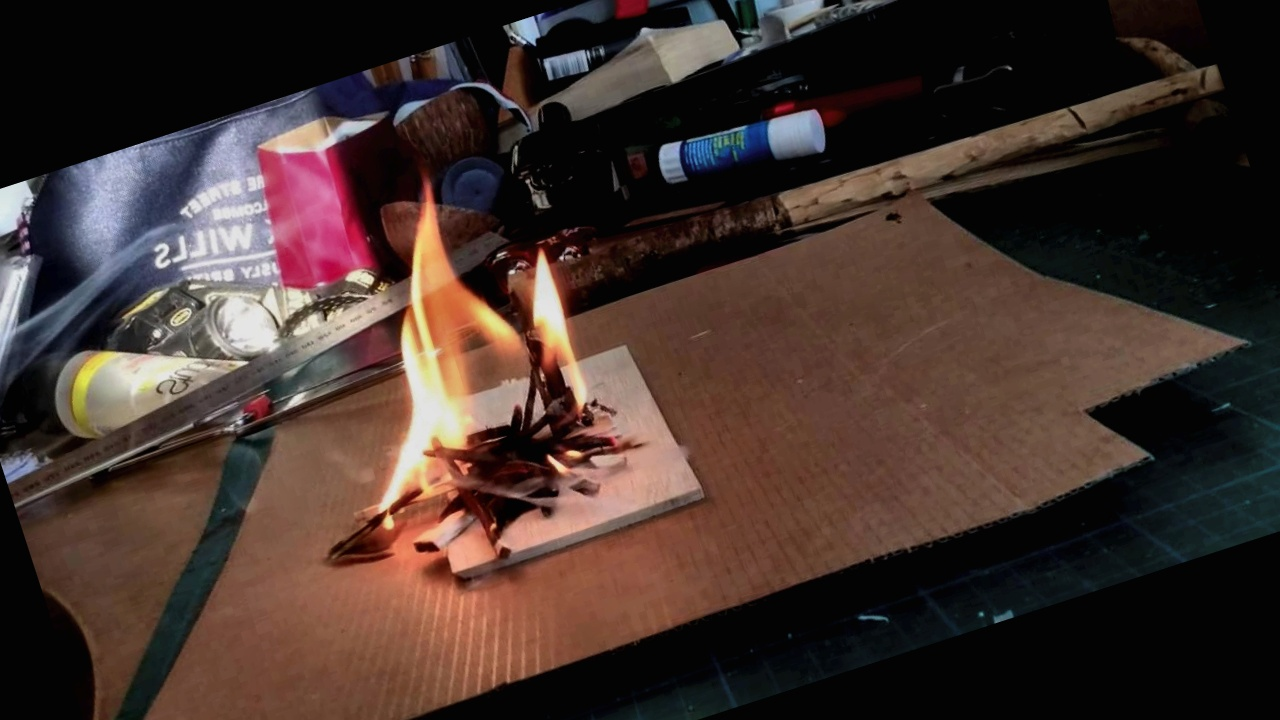fire: (337, 222, 613, 523)
